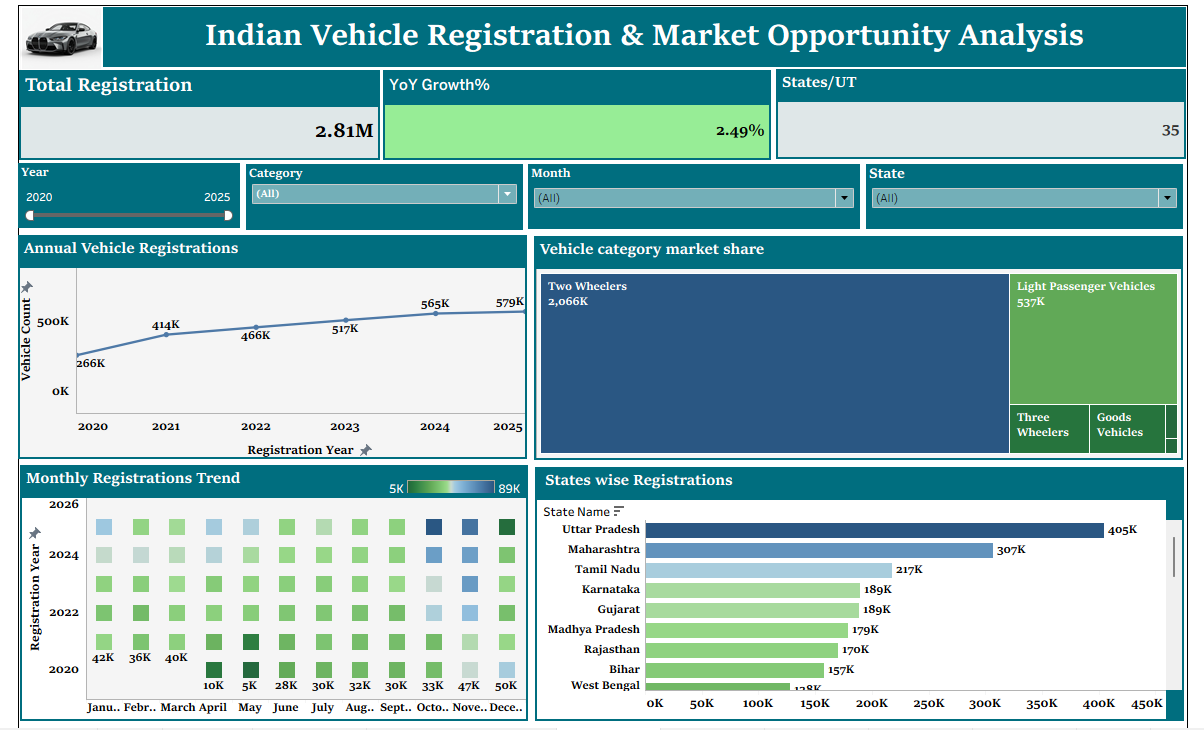

Layout of this report page (visuals, bound fields, positions):
{"tool":"tableau","page":{"name":"Dashboard 1","canvas":[1200,1000],"ordinal":0},"visuals":[{"type":"dashboard-object","param":"[com.tableau.addfilters].[0.0.0].[https://extensions.tableauusercontent.com/sand","box":[8,8,1184,984]},{"type":"image","param":"Image/c722b70cedb8637dbb83ca822c79a23b.jpg","box":[17,16,210,64]},{"type":"title","box":[100,17,1083,60]},{"type":"worksheet","title":"Sheet 11","mark":"Automatic","box":[773,79,410,90]},{"type":"worksheet","title":"Total Registration","mark":"Automatic","box":[16,80,361,90]},{"type":"worksheet","title":"YoY Growth KPI","mark":"Automatic","box":[380,80,388,90]},{"type":"filter","title":"Annual Vehicle Registrations","param":"[federated.126gv5v0tedxz11cikqk708k748i].[none:registrationYear:qk]","box":[15,173,222,65]},{"type":"filter","title":"Vehicle category market share","param":"[federated.126gv5v0tedxz11cikqk708k748i].[none:Calculation_1106712995401733:nk]","box":[243,174,277,66]},{"type":"filter","title":"Monthly Registration Heatmap","param":"[federated.126gv5v0tedxz11cikqk708k748i].[none:Calculation_1106712977588225:nk]","box":[525,174,332,65]},{"type":"filter","title":"06 - Top 10 States","param":"[federated.126gv5v0tedxz11cikqk708k748i].[none:stateName:nk]","box":[863,174,317,65]},{"type":"worksheet","title":"Annual Vehicle Registrations","mark":"Automatic","rows":["vehicleCount"],"cols":["registrationYear"],"box":[15,245,509,224]},{"type":"worksheet","title":"Vehicle category market share","mark":"Automatic","box":[531,246,649,224]},{"type":"worksheet","title":"Monthly Registration Heatmap","mark":"Square","rows":["registrationYear"],"cols":["Calculation_1106712977588225"],"box":[17,475,508,256]},{"type":"worksheet","title":"06 - Top 10 States","mark":"Bar","rows":["stateName"],"cols":["vehicleCount"],"box":[532,477,649,254]},{"type":"legend","title":"Monthly Registration Heatmap","param":"[federated.126gv5v0tedxz11cikqk708k748i].[sum:vehicleCount:qk]","box":[382,486,140,17]}]}

Visuals, with their boxes on the page's 1200x1000 design canvas (x1, y1, x2, y2). These are canvas units, not pixel positions in the 1204x730 screenshot, which may show the page scaled, cropped or inside an application window:
dashboard-object: [left=8, top=8, right=1192, bottom=992]
image: [left=17, top=16, right=227, bottom=80]
title: [left=100, top=17, right=1183, bottom=77]
"Sheet 11" worksheet: [left=773, top=79, right=1183, bottom=169]
"Total Registration" worksheet: [left=16, top=80, right=377, bottom=170]
"YoY Growth KPI" worksheet: [left=380, top=80, right=768, bottom=170]
"Annual Vehicle Registrations" filter: [left=15, top=173, right=237, bottom=238]
"Vehicle category market share" filter: [left=243, top=174, right=520, bottom=240]
"Monthly Registration Heatmap" filter: [left=525, top=174, right=857, bottom=239]
"06 - Top 10 States" filter: [left=863, top=174, right=1180, bottom=239]
"Annual Vehicle Registrations" worksheet: [left=15, top=245, right=524, bottom=469]
"Vehicle category market share" worksheet: [left=531, top=246, right=1180, bottom=470]
"Monthly Registration Heatmap" worksheet (Square marks): [left=17, top=475, right=525, bottom=731]
"06 - Top 10 States" worksheet (Bar marks): [left=532, top=477, right=1181, bottom=731]
"Monthly Registration Heatmap" legend: [left=382, top=486, right=522, bottom=503]
